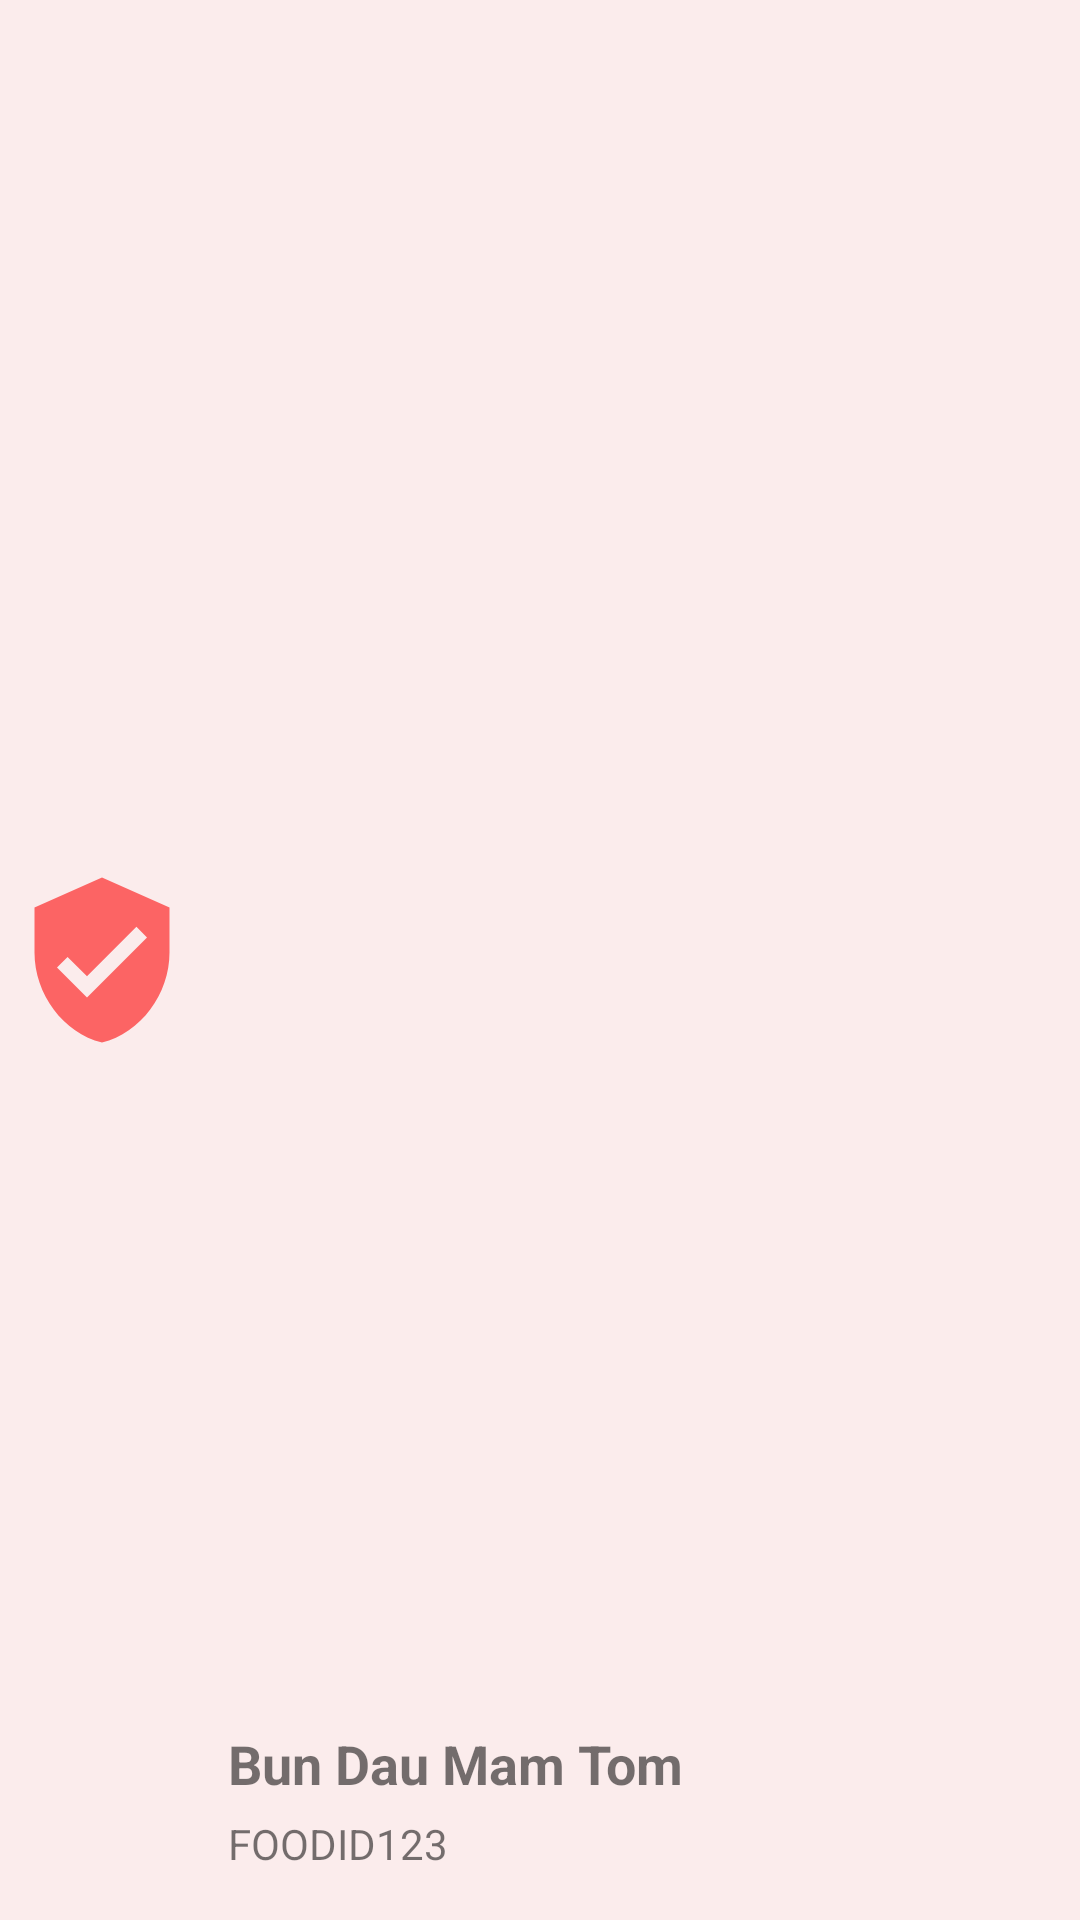

Screen size 1080px×1920px. Icon name, then its center in pixels as [x,y]:
verified user: [102,960]
